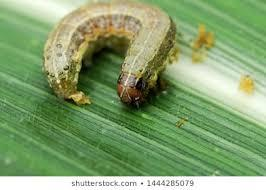fallarmy_worm: (32, 2, 183, 116)
